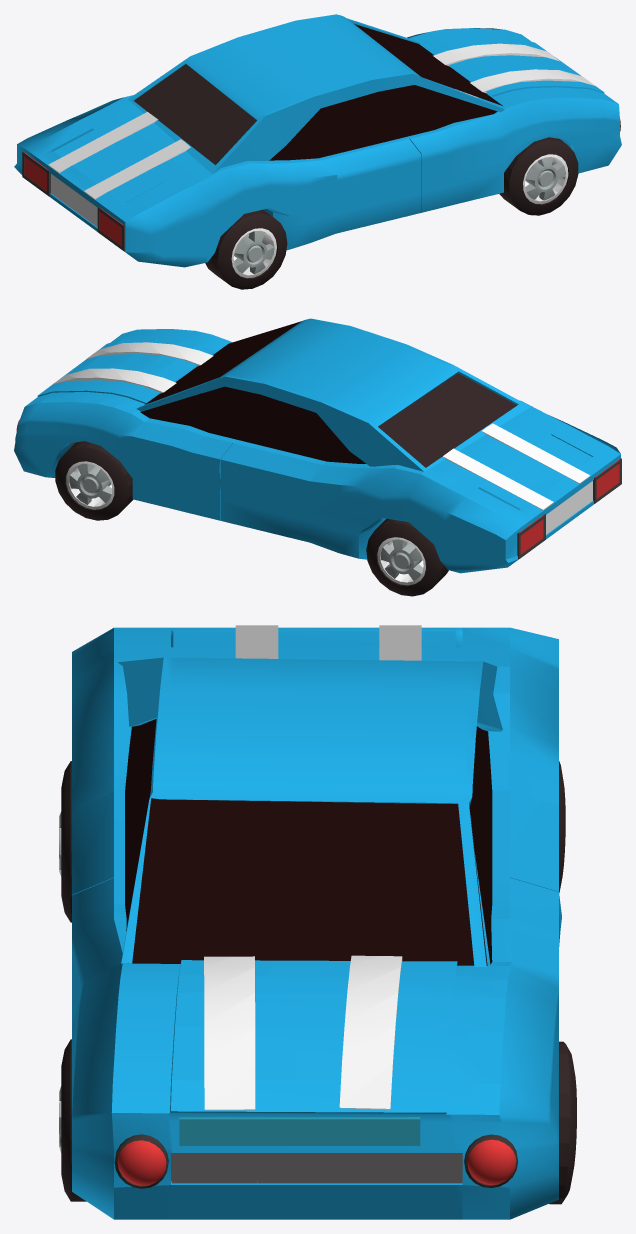
3 renders of one model, top to bottom at view 1: azimuth 30°, elevation 25°; view 2: azimuth 150°, elevation 25°; view 3: azimuth 270°, elevation 25°, orthographic. The views are drawn at different scales.
Visible parts, largest first — view 1: Object_7, Object_3, Object_5, Object_4, Object_6, Object_8, Object_10; view 2: Object_7, Object_3, Object_5, Object_4, Object_6, Object_8, Object_10; view 3: Object_7, Object_5, Object_4, Object_11, Object_2, Object_3, Object_8, Object_9.
Part boxes in pixels (x1,y1,x2,y2): Object_7: (14, 14, 621, 267); Object_3: (134, 64, 578, 289); Object_5: (269, 24, 502, 160); Object_4: (48, 43, 594, 278); Object_6: (234, 157, 565, 274); Object_8: (24, 119, 620, 246); Object_10: (22, 151, 125, 251); Object_7: (14, 318, 620, 573); Object_3: (55, 373, 516, 596); Object_5: (140, 321, 365, 463); Object_4: (52, 342, 592, 585); Object_6: (69, 463, 423, 580); Object_8: (16, 420, 619, 554); Object_10: (517, 458, 621, 559); Object_7: (72, 627, 561, 1219); Object_5: (125, 719, 492, 965); Object_4: (204, 625, 421, 1110); Object_11: (171, 1153, 462, 1183); Object_2: (179, 1117, 420, 1145); Object_3: (61, 761, 576, 1204); Object_8: (117, 1139, 516, 1185); Object_9: (114, 1134, 517, 1188).
Bounding box in the file's own units: 1.7 × 0.5145 × 0.7602.
